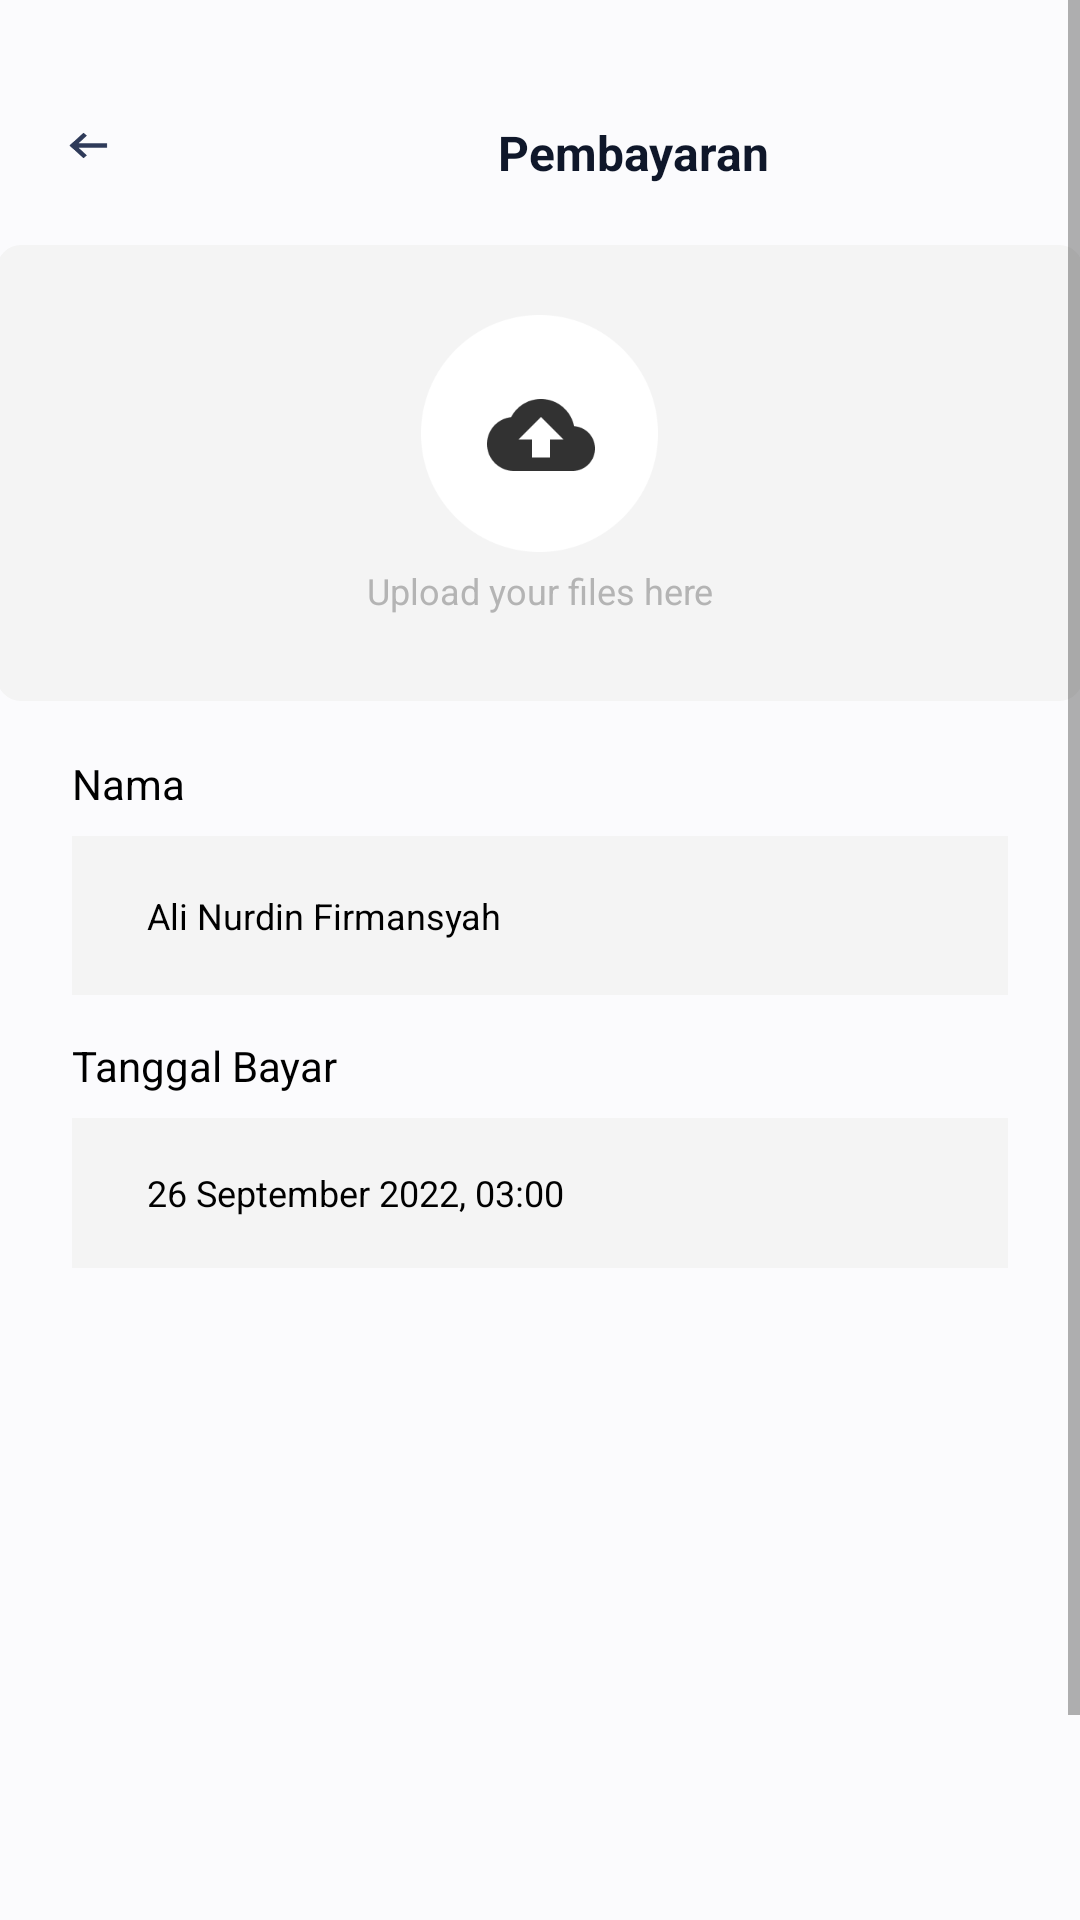

Where icons sit on this 1080×1920 app screen, as box=[x1, y1, x2, y2]:
arrow: box=[69, 133, 107, 158]
